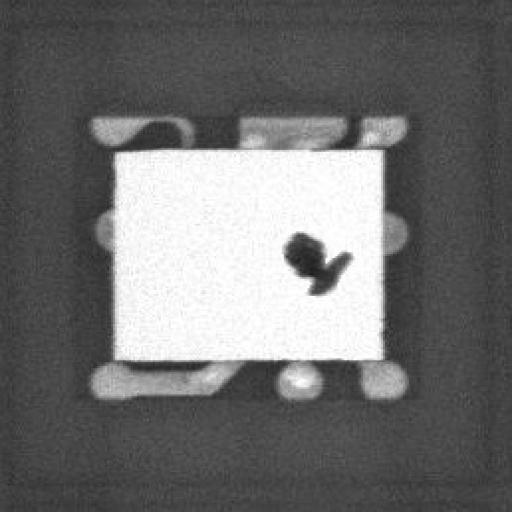DIE_INK: (267, 238, 336, 308)
